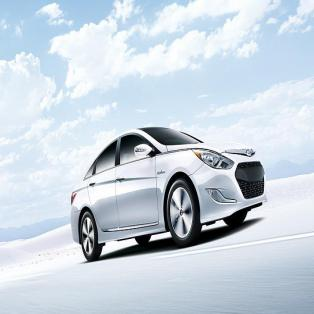Auto: (71, 124, 266, 259)
